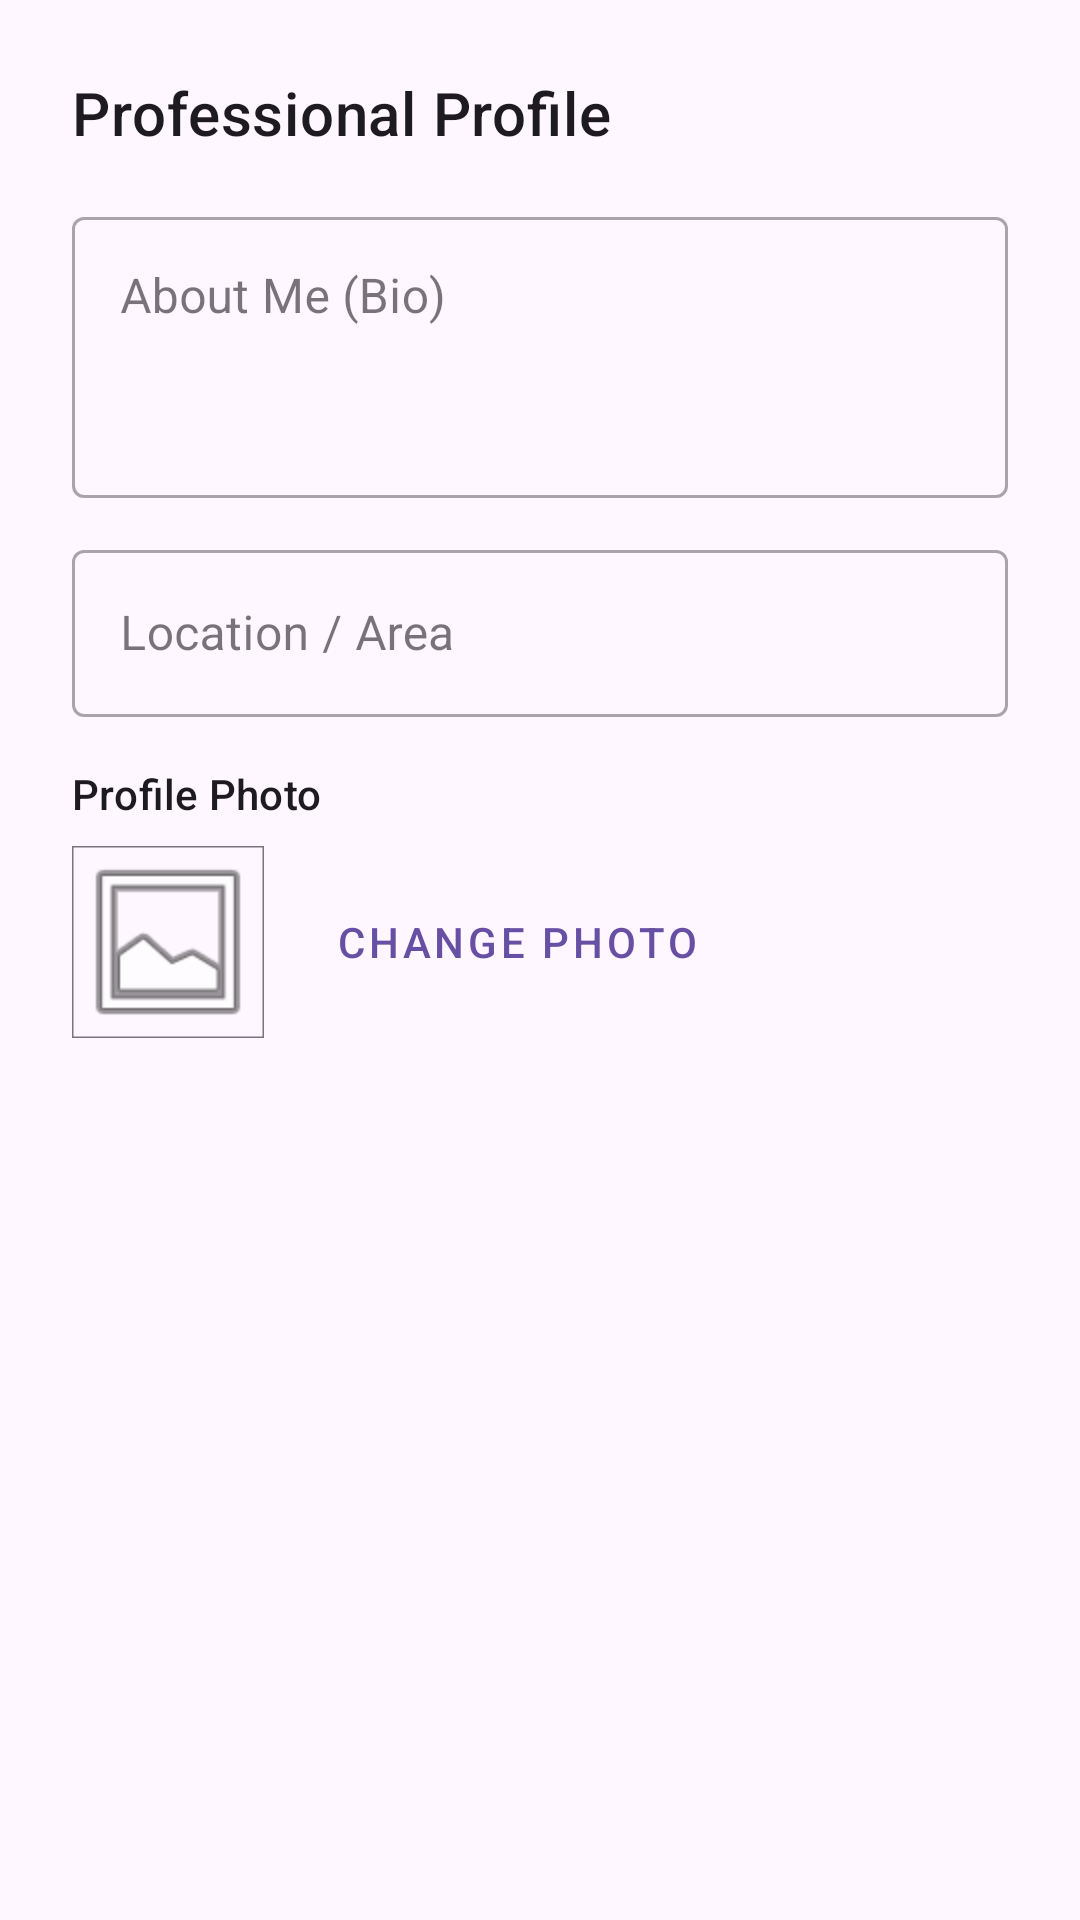

Where icons sit on this 1080*1920 app screen, as (x1, y1, x2, y2):
gallery: (72, 846, 264, 1038)
